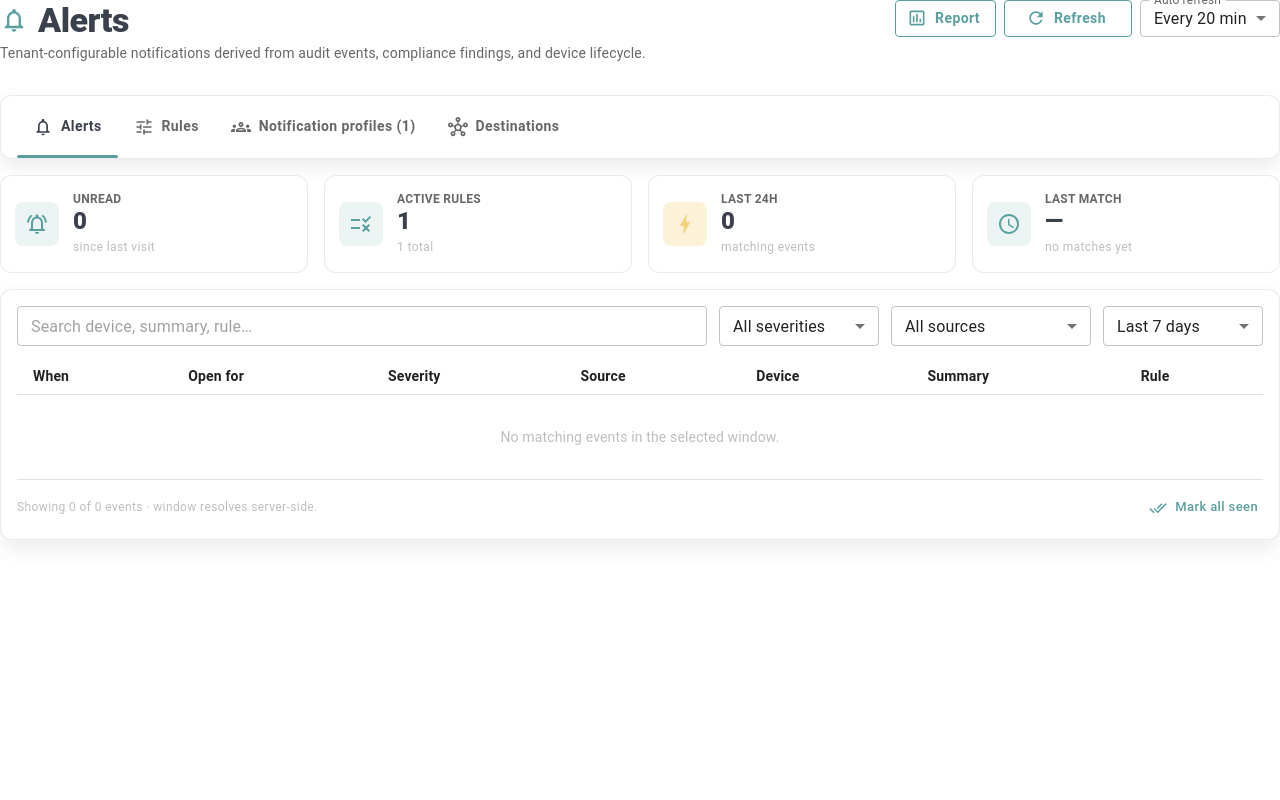
Test case: Alerts — perfiles de notificaciones (ADR-0025) › ⚠️ borrar un perfil en uso dice qué reglas lo usan
Click the tab "Rules" at (166, 127), box [118,96,215,158]
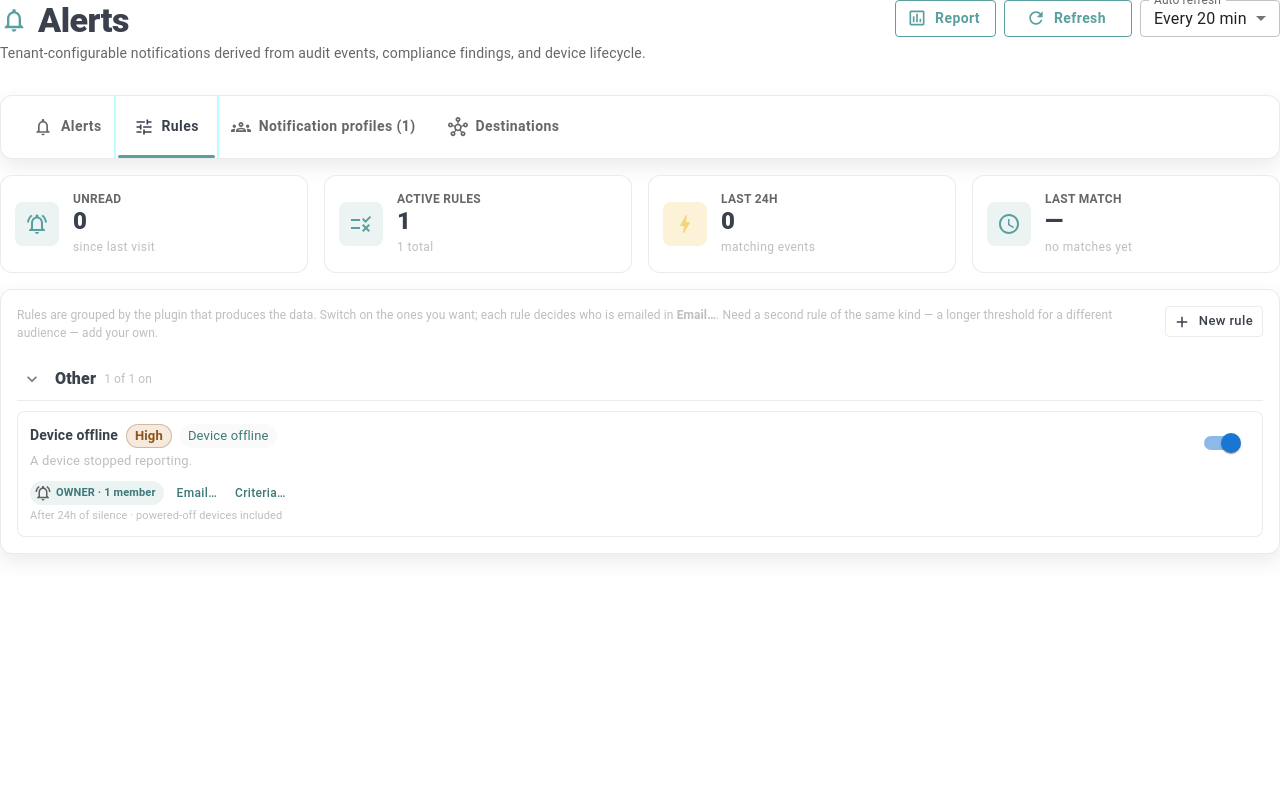
Click the tab "Notification profiles (1)" at (323, 127), box [215,96,432,158]
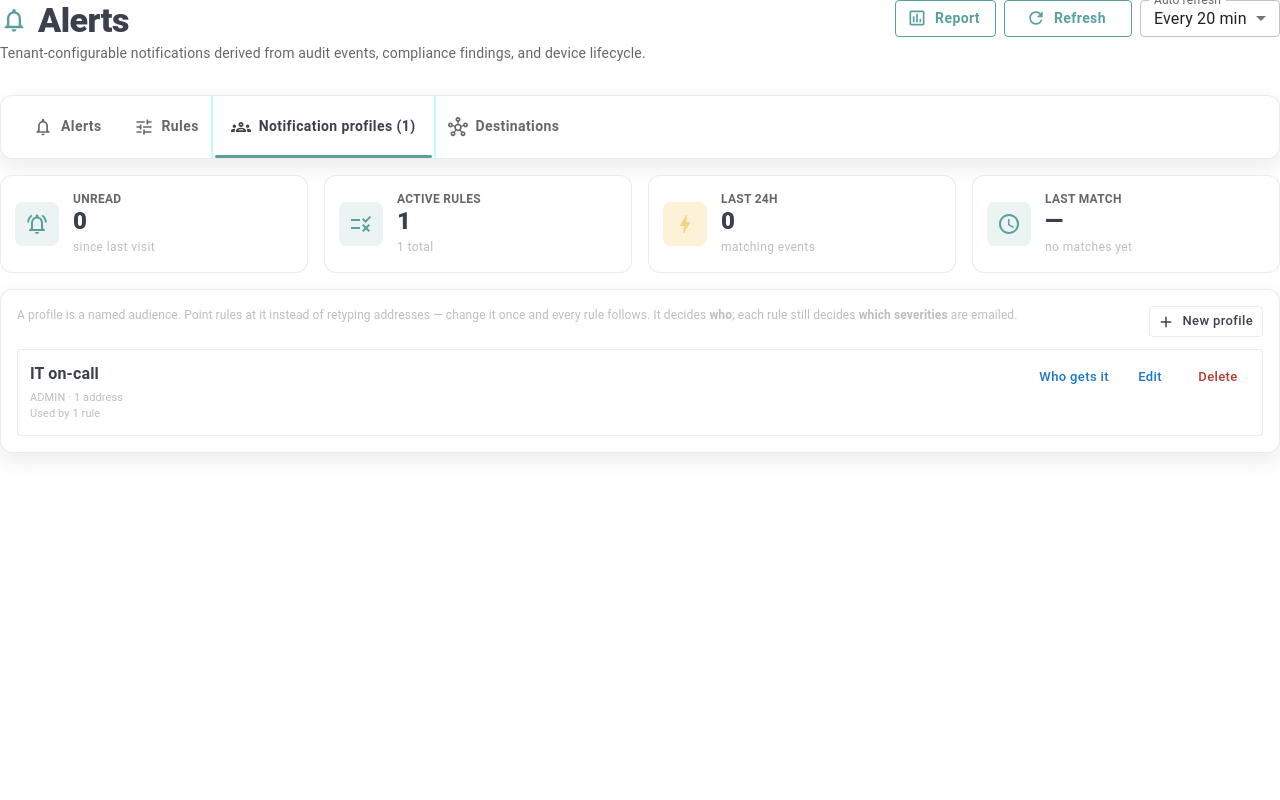
Click the button with aria-label "Delete IT on-call" at (1218, 377), box [1186,362,1250,393]
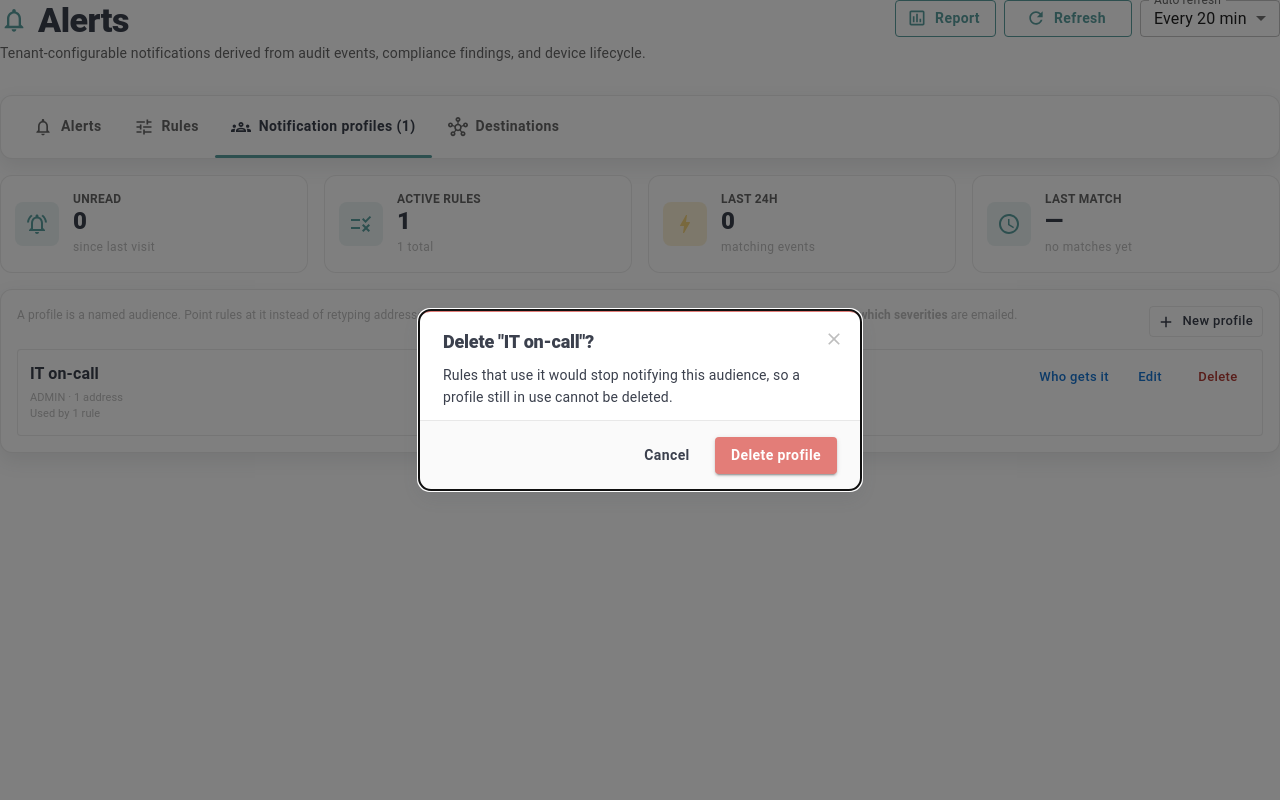
Click the button "Delete profile" at (776, 456), box [715,437,837,474]
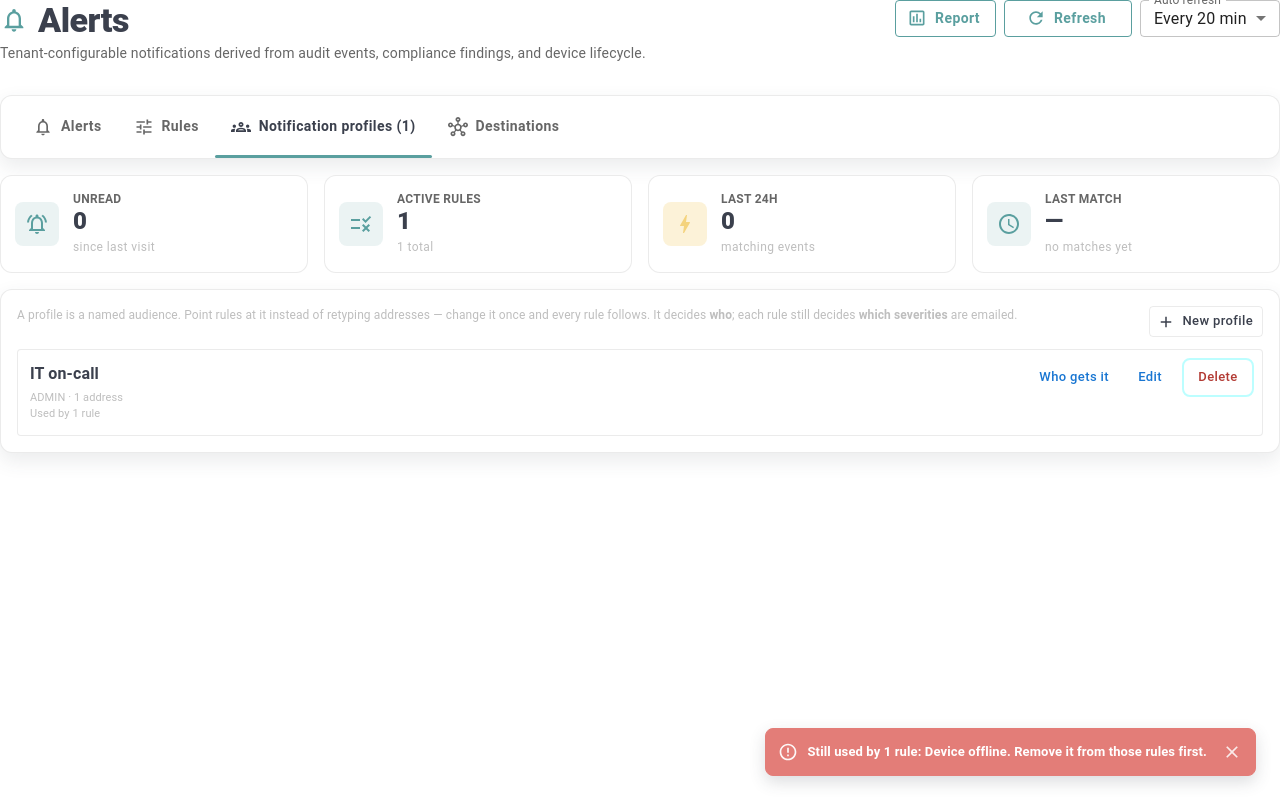
expect the text "Still used by 1 rule: Device offline" is shown: met, box [808,744,1207,759]
